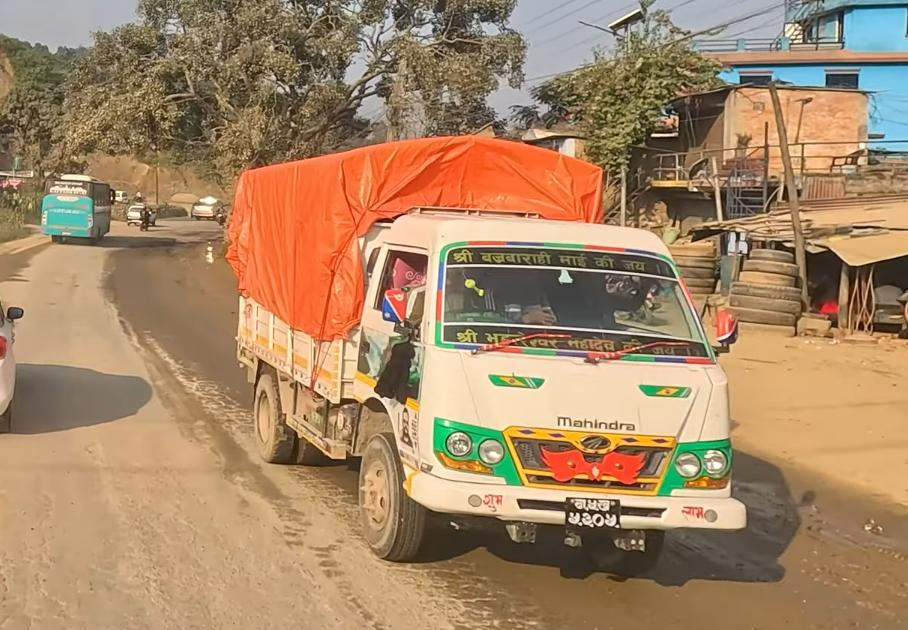bike: (132, 193, 159, 234)
bus: (37, 170, 118, 252)
micro_bus: (192, 191, 224, 221)
mini_truck: (219, 124, 756, 579)
